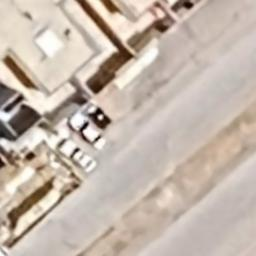sedan: (67, 111, 108, 153), (56, 138, 98, 174)
unknown: (80, 98, 114, 132)
